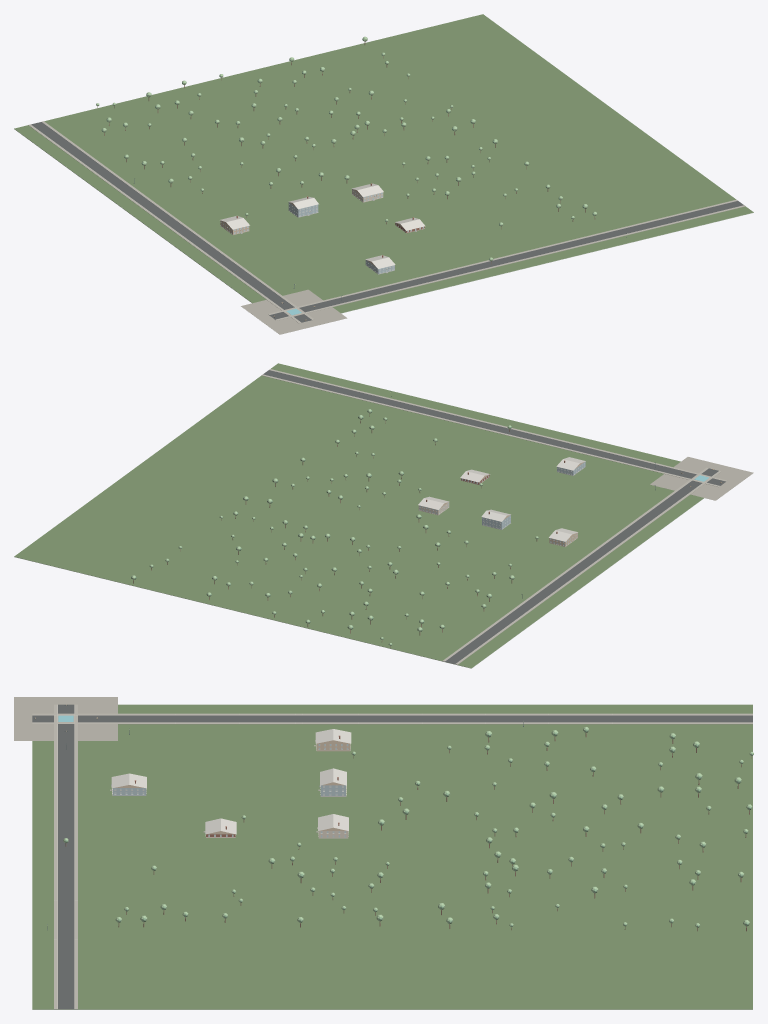
The model's file is chunk_2_5_high.glb.
3 views of the same model, one above another, from view 1: azimuth 30°, elevation 25°; view 2: azimuth 150°, elevation 25°; view 3: azimuth 270°, elevation 25° (orthographic). The views are drawn at different scales.
Parts seen in each view (by area): view 1: city_forest_floor, city_world_asphalt, city_world_sidewalk, city_village_stone, city_foliage, city_roof_tile, city_curb, city_grass, city_foliage_dark; view 2: city_forest_floor, city_world_asphalt, city_world_sidewalk, city_village_stone, city_foliage, city_roof_tile, city_curb, city_grass, city_foliage_dark; view 3: city_forest_floor, city_world_asphalt, city_world_sidewalk, city_village_stone, city_foliage, city_roof_tile, city_curb, city_foliage_dark, city_grass, city_bark, city_wall_sand, city_wall_blue.
Part boxes in pixels (bbox=[...]): city_forest_floor: bbox=[14, 14, 753, 312]; city_world_asphalt: bbox=[31, 122, 743, 322]; city_world_sidewalk: bbox=[28, 121, 745, 323]; city_village_stone: bbox=[241, 289, 347, 334]; city_foliage: bbox=[96, 36, 596, 261]; city_roof_tile: bbox=[220, 183, 425, 268]; city_curb: bbox=[30, 121, 743, 321]; city_grass: bbox=[14, 129, 753, 313]; city_foliage_dark: bbox=[96, 38, 597, 260]; city_forest_floor: bbox=[14, 363, 703, 668]; city_world_asphalt: bbox=[263, 370, 725, 663]; city_world_sidewalk: bbox=[261, 369, 727, 664]; city_village_stone: bbox=[650, 457, 753, 500]; city_foliage: bbox=[131, 409, 537, 645]; city_roof_tile: bbox=[418, 457, 585, 541]; city_curb: bbox=[264, 370, 725, 663]; city_grass: bbox=[14, 498, 704, 668]; city_foliage_dark: bbox=[131, 410, 538, 645]; city_forest_floor: bbox=[32, 704, 752, 1009]; city_world_asphalt: bbox=[32, 704, 752, 1009]; city_world_sidewalk: bbox=[32, 704, 752, 1009]; city_village_stone: bbox=[14, 697, 117, 740]; city_foliage: bbox=[63, 727, 753, 927]; city_roof_tile: bbox=[111, 729, 351, 834]; city_curb: bbox=[32, 704, 752, 1009]; city_foliage_dark: bbox=[65, 729, 753, 927]; city_grass: bbox=[32, 1009, 752, 1009]; city_bark: bbox=[65, 733, 751, 931]; city_wall_sand: bbox=[115, 740, 350, 834]; city_wall_blue: bbox=[112, 785, 345, 796].
Bounding box in the file's own units: 525 × 13.52 × 526.
